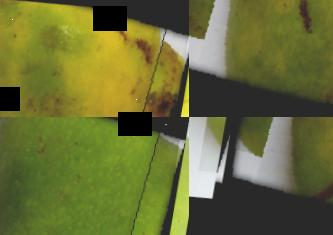PartiallyRipe: (0, 0, 189, 117), (189, 0, 333, 117), (218, 117, 333, 235)
Unripe: (0, 117, 183, 235)
